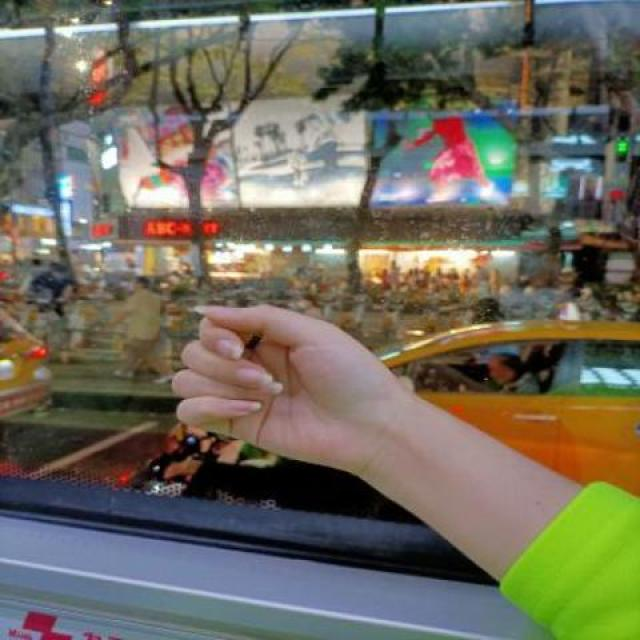Closed Hand: (172, 292, 412, 492)
